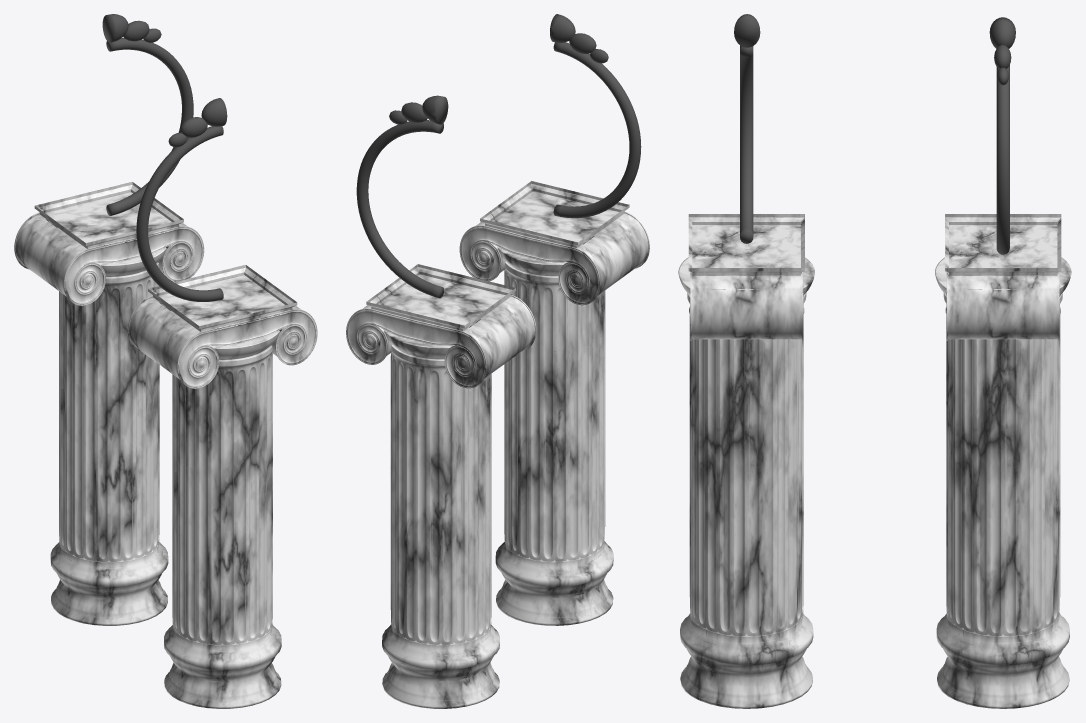
Rendered from BraceletPillars-new.fbx.
3 views of the same model, side by side, from view 1: azimuth 30°, elevation 25°; view 2: azimuth 150°, elevation 25°; view 3: azimuth 270°, elevation 25° (orthographic). The views are drawn at different scales.
Parts seen in each view (by area): view 1: PillarLeft.001, PillarLeft, RingRight, RingLeft; view 2: PillarLeft, PillarLeft.001, RingLeft, RingRight; view 3: PillarLeft.001, PillarLeft, RingLeft, RingRight.
Part boxes in pixels (bbox=[...]): PillarLeft.001: bbox=[127, 265, 317, 708]; PillarLeft: bbox=[14, 182, 204, 625]; RingRight: bbox=[136, 98, 227, 301]; RingLeft: bbox=[102, 14, 193, 215]; PillarLeft: bbox=[346, 264, 536, 708]; PillarLeft.001: bbox=[459, 181, 649, 625]; RingLeft: bbox=[356, 95, 448, 298]; RingRight: bbox=[550, 14, 641, 218]; PillarLeft.001: bbox=[678, 214, 814, 708]; PillarLeft: bbox=[935, 214, 1071, 708]; RingLeft: bbox=[989, 17, 1015, 254]; RingRight: bbox=[734, 14, 760, 243].
Size of the model in its own units: 215 by 713 by 383.
